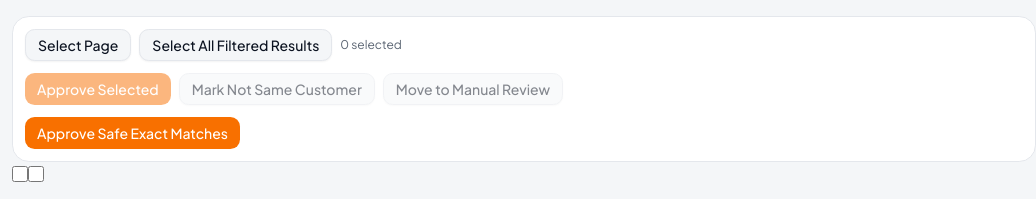
Test: QuickBooks review selection › selects all filtered records without loading their IDs
Click the button "Select All Filtered Results". click: (236, 45)
box: [139,29,332,61]
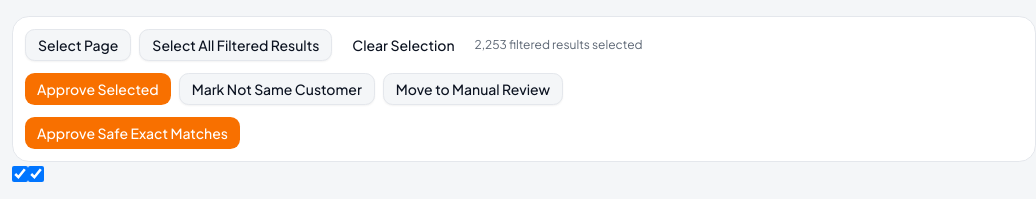
Expected: the form named "selectionMode" holds "ALL_FILTERED", [25,73,563,105]
Now the text "2,253 filtered results selected" is shown, box [475,37,643,53]
